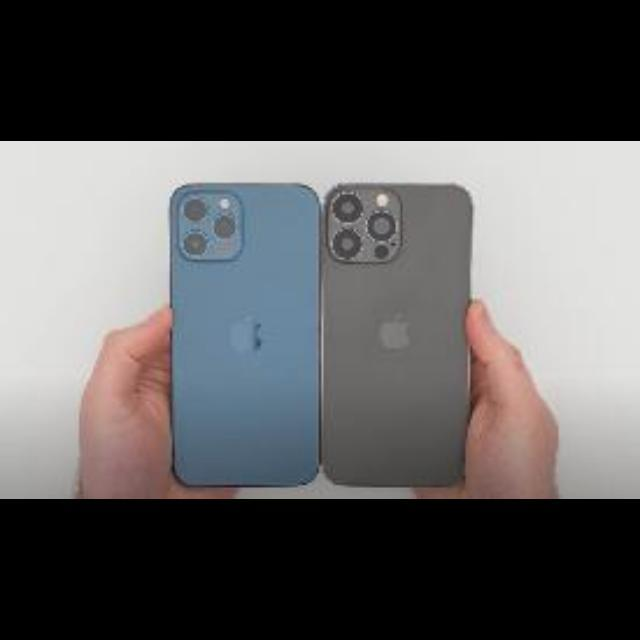Phone: (168, 183, 320, 485), (323, 180, 469, 488)
